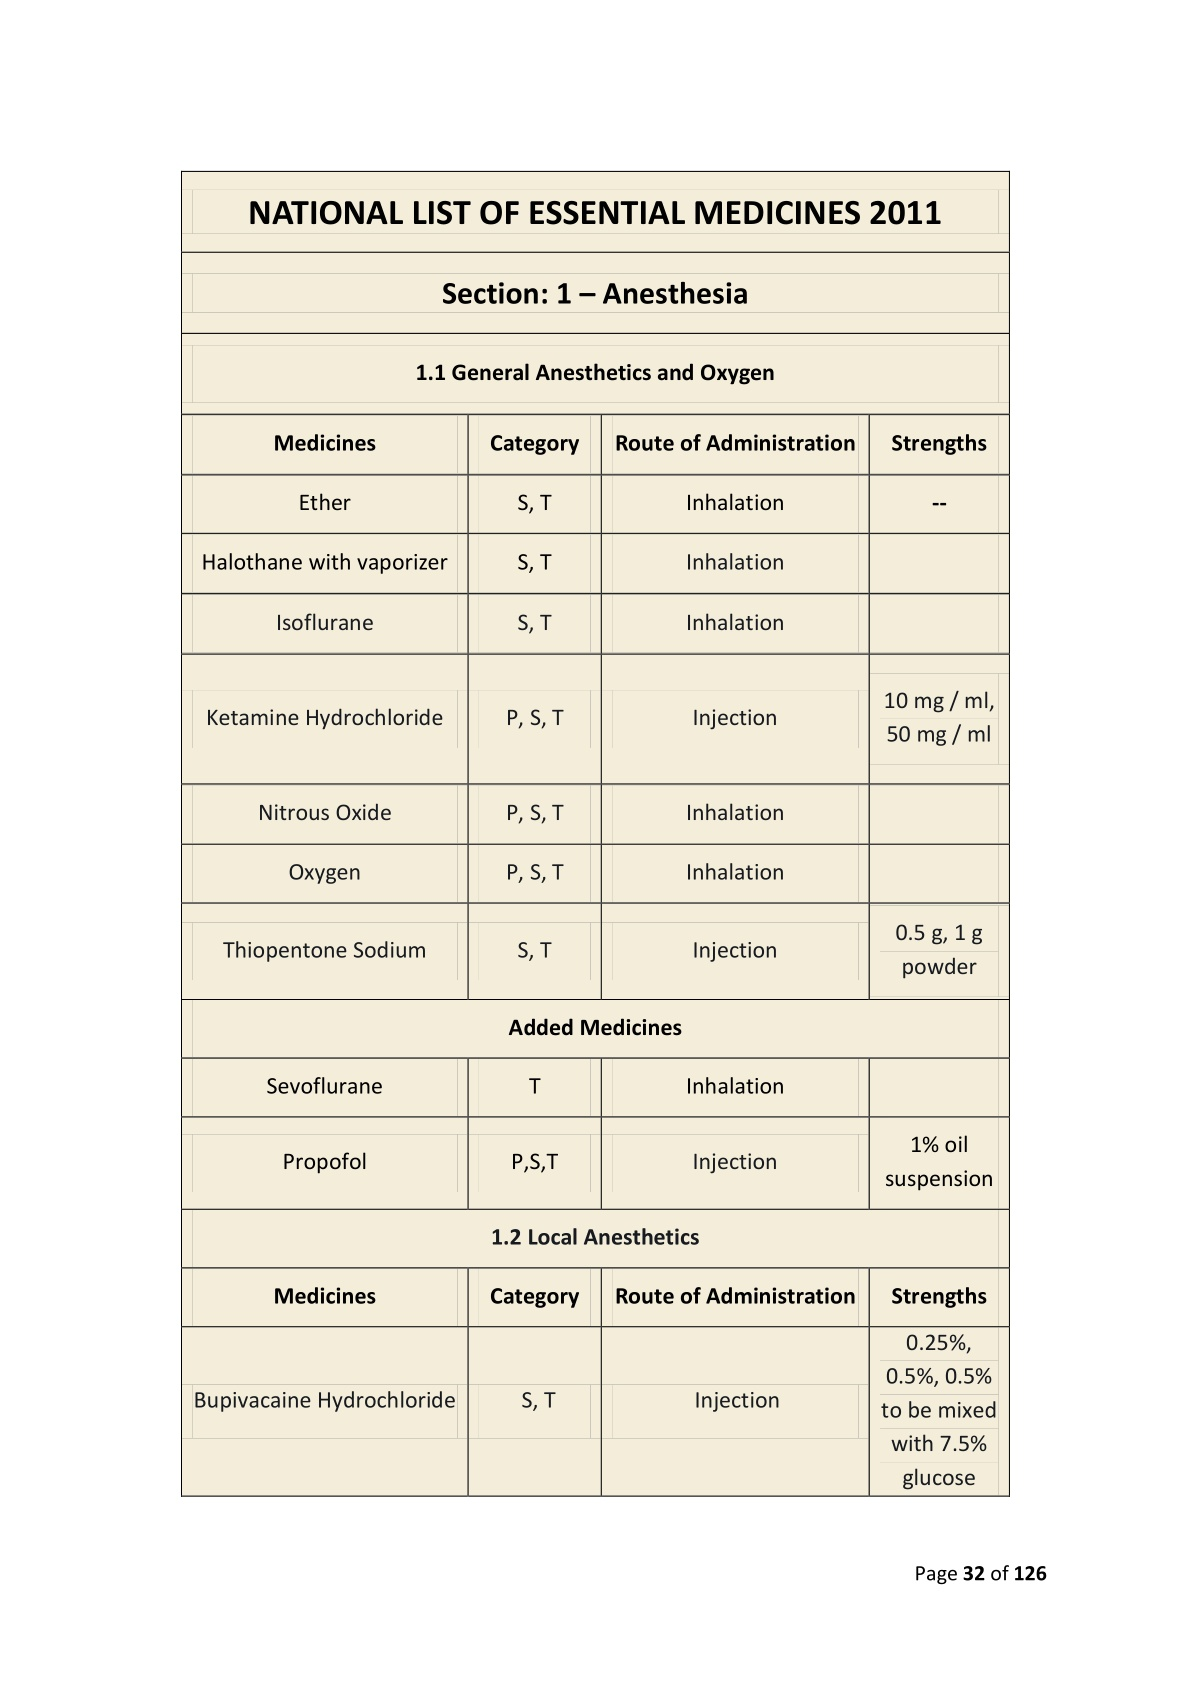merged_cells: (179, 169, 1011, 1498)
